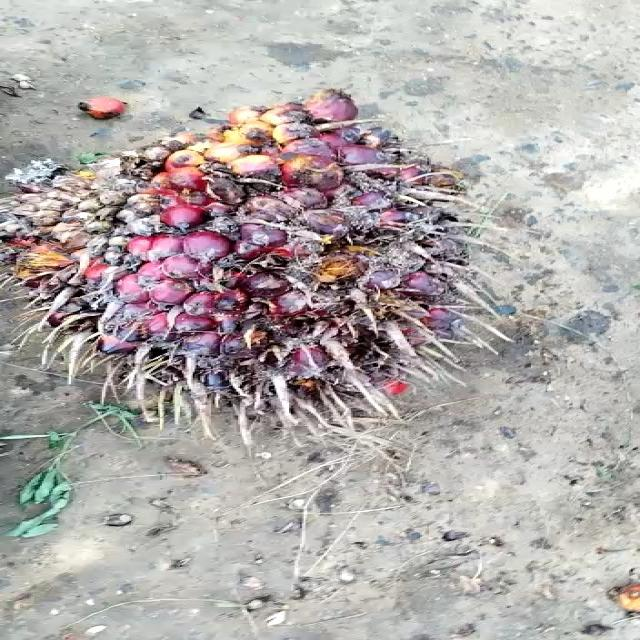palm oil: (0, 104, 507, 429)
